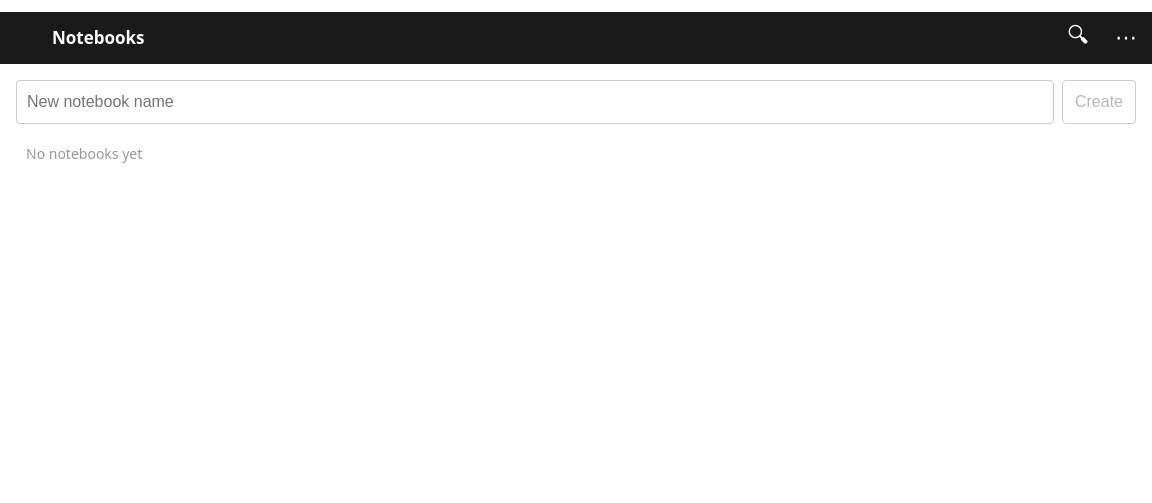
Test: Layout (mobile) › hides account details until the menu is opened
Expected: the text "Test User" is not shown
Expected: the text "3 invites left" is not shown
Click the button named "Menu".
click(1126, 38)  # box [1104,16,1148,60]
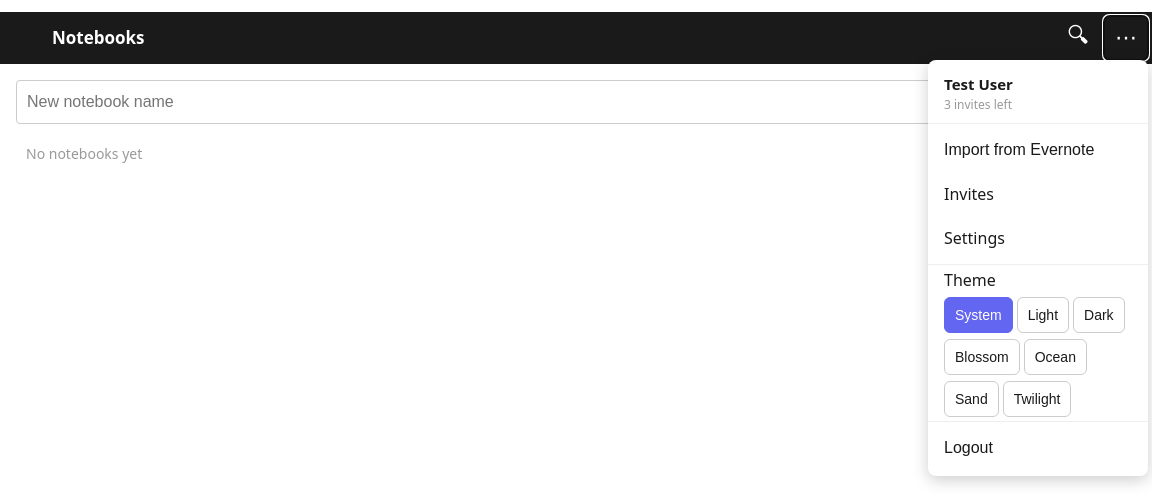
Expected: the text "Test User" is shown, [944,74,1013,94]
Expected: the text "3 invites left" is shown, [944,96,1012,112]
